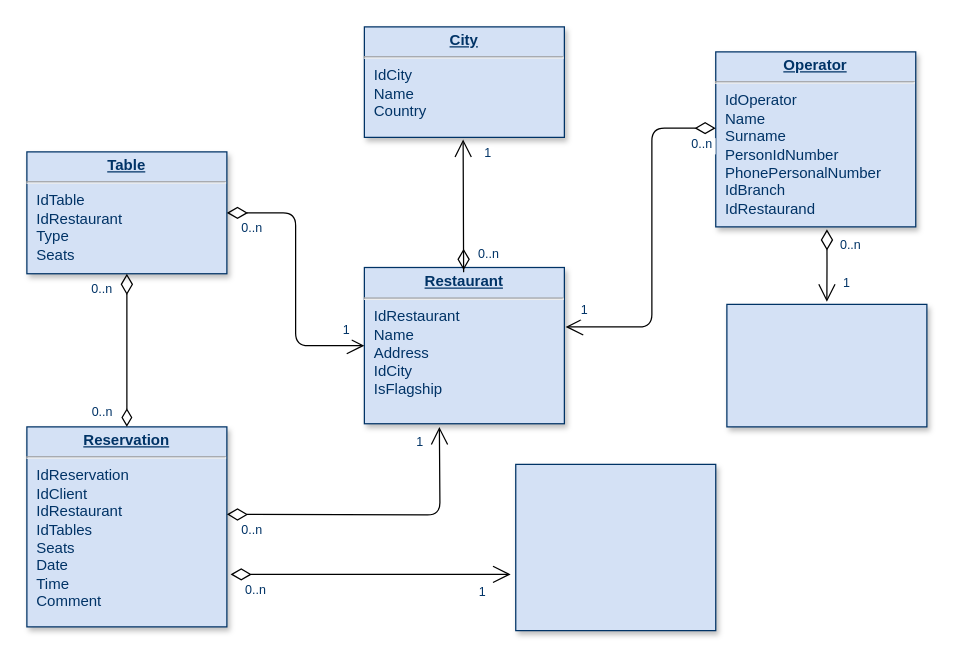
The diagram is 956 pixels wide and 661 high, and some of its shapes have lost their labels. The shapes that lost their labels are listed below. From the top down, each one's centre as x and y in pixels, then its label:
At point (827, 367): "Branch IdBranch OperatorNumber KitchenNumber AccountingNumber".
At point (616, 548): "Client IdClient Name Surname ClientPhoneNumber OperatorComment IsClient".
